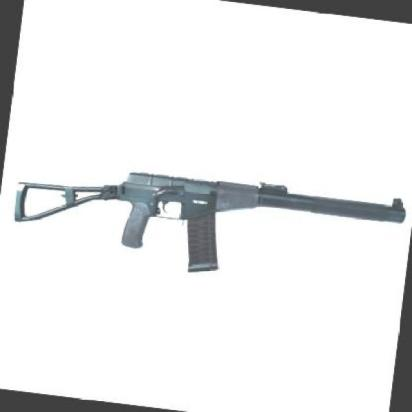Gun: (4, 134, 412, 313)
